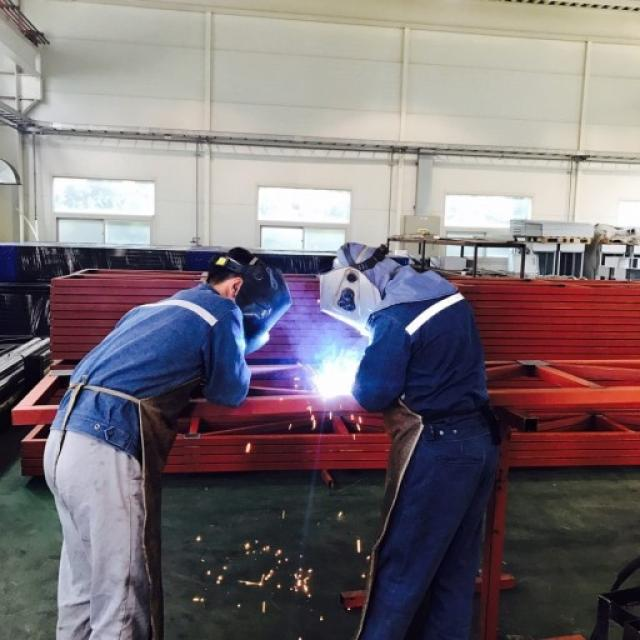welding: (316, 358, 358, 396)
